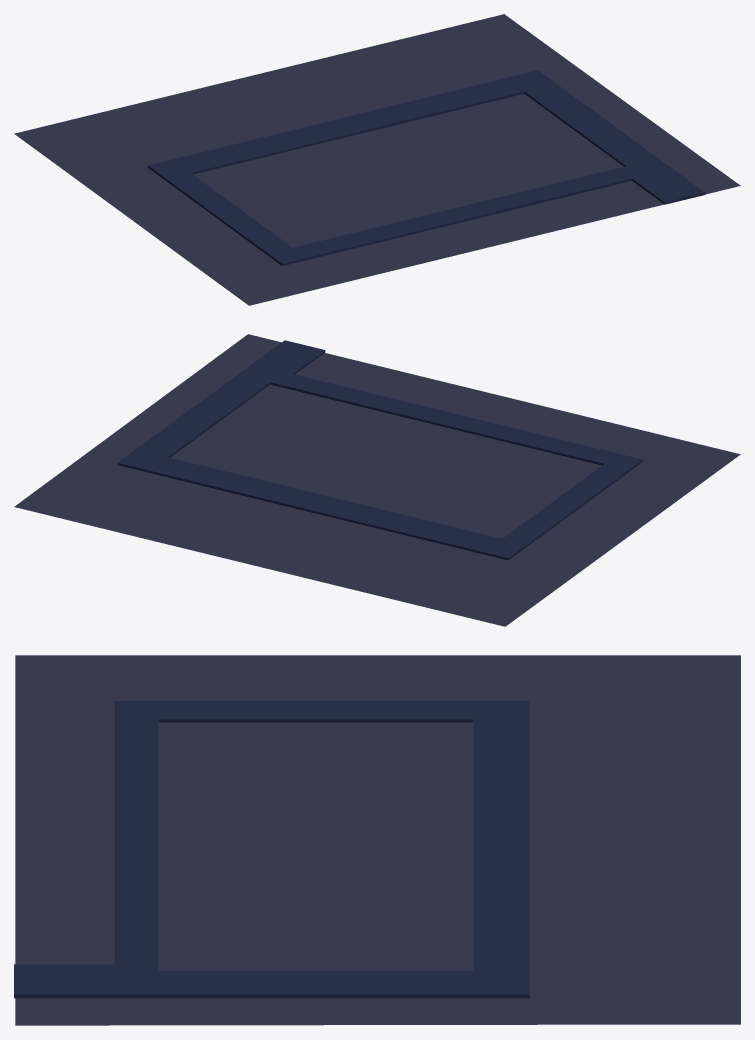
The model's file is gc_ground.glb.
The picture shows the model from 3 angles, top to bottom: view 1: azimuth 30°, elevation 25°; view 2: azimuth 150°, elevation 25°; view 3: azimuth 270°, elevation 25°; orthographic projection. The views are drawn at different scales.
Parts seen in each view (by area): view 1: Plane.004, Plane; view 2: Plane.004, Plane; view 3: Plane.004, Plane.
Boxes of the visible parts, x1,y1,x2,y2 form: Plane.004: (14,14,740,305); Plane: (148,70,705,265); Plane.004: (14,334,740,626); Plane: (117,340,642,560); Plane.004: (15,655,740,1025); Plane: (14,701,529,998).
Size of what is drawn, in the model's own units: 55.31 by 0.2582 by 45.9.
